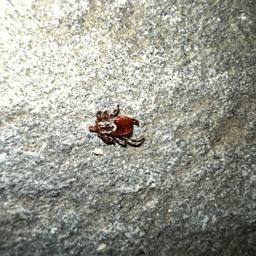Dermacentor variabilis: (87, 108, 147, 150)
